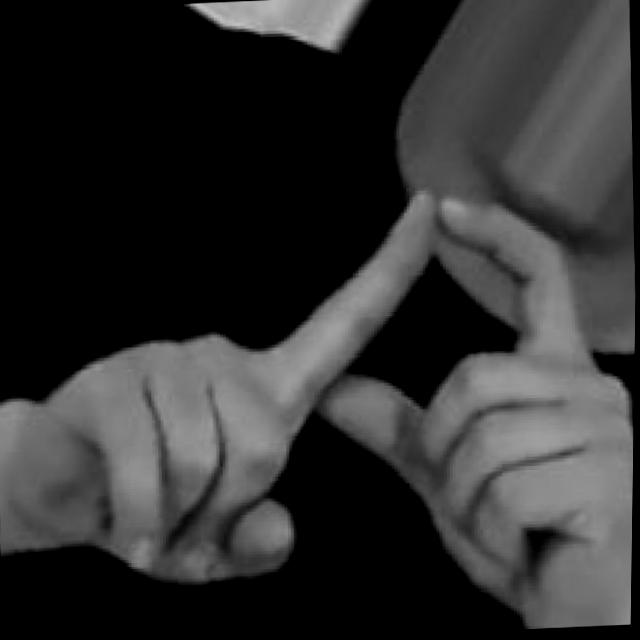D: (85, 171, 637, 639)
